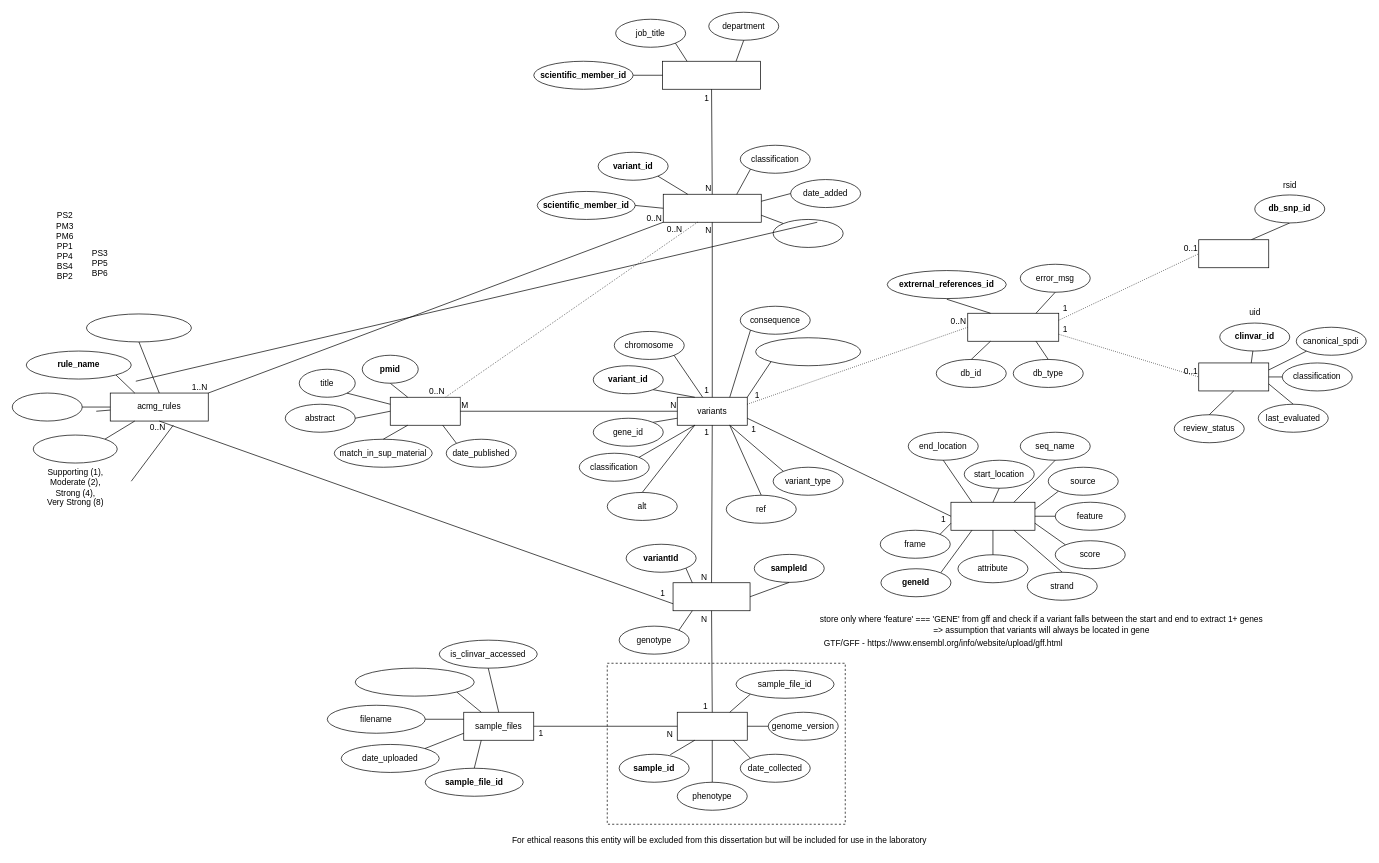
Image size: 1379x863. Some labels were removed from this diagram. Each missing label, with the centre of its shape:
are_rsids_retrieved: the point at 414,681
chromosome_position: the point at 808,351
classification_overrides: the point at 712,208
clinvar: the point at 1233,376
db_snp: the point at 1233,253
default_strength: the point at 75,448
description: the point at 47,406
external_references: the point at 1013,327
gene_annotations: the point at 992,516
publications: the point at 425,411
reason: the point at 807,233
requires_lab_verification: the point at 138,327
samples: the point at 712,726
scientific_members: the point at 711,75
variants_samples: the point at 711,596
